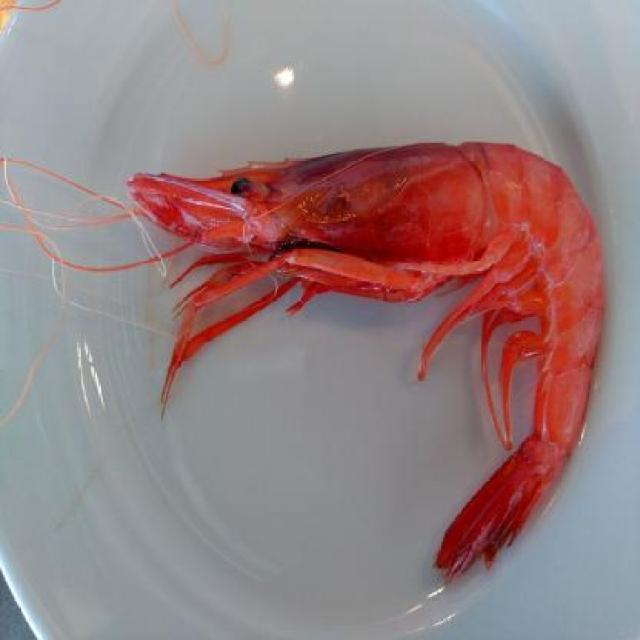shrimp: (124, 125, 611, 587)
